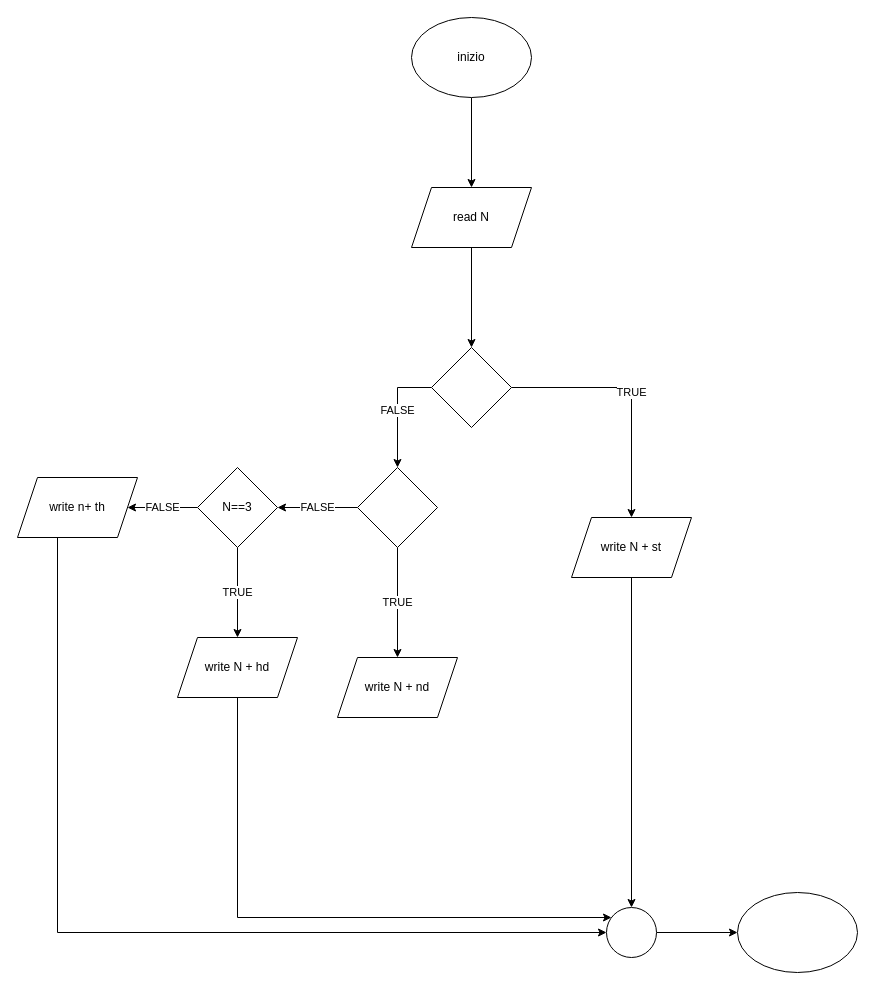
The diagram is 875 pixels wide and 990 high, and some of its shapes have lost their labels. The shapes that lost their labels are listed below. From the top down, each one's box as (x1, y1, x2, y2) in pixels, then its label:
(430, 346, 512, 428): N==1
(356, 466, 438, 548): N==2
(736, 892, 858, 972): fine
